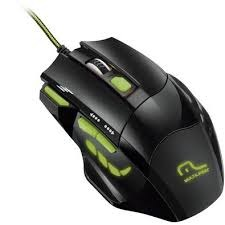mouse: (37, 35, 223, 225)
